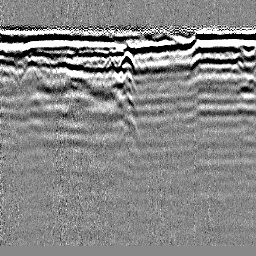cavity: (118, 50, 136, 72)
